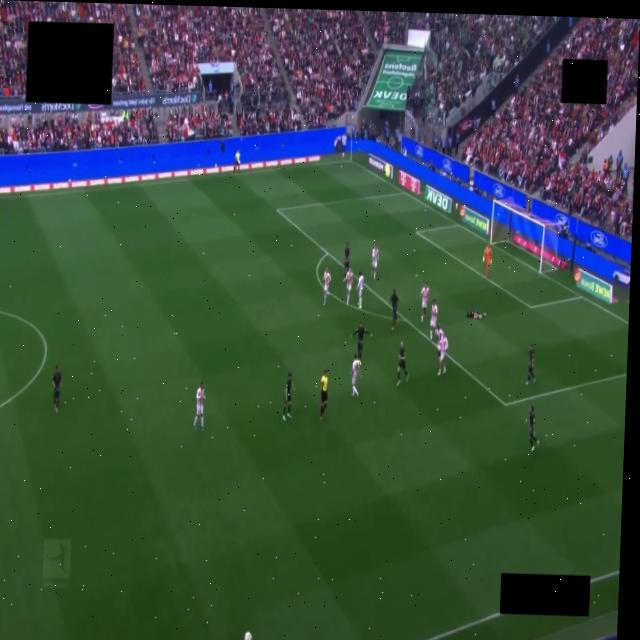ball: (244, 632, 251, 639)
player: (351, 323, 371, 359), (282, 372, 293, 420), (526, 407, 538, 451), (193, 382, 204, 430), (396, 341, 407, 386), (52, 365, 61, 413), (437, 333, 447, 375), (525, 344, 535, 384), (481, 244, 492, 279), (351, 355, 360, 397), (429, 300, 437, 340), (390, 290, 397, 331), (421, 283, 428, 322), (323, 267, 330, 305), (345, 268, 352, 306), (371, 245, 378, 280), (343, 243, 349, 281), (357, 272, 363, 308), (467, 310, 485, 320), (434, 325, 443, 345)
referee: (320, 370, 327, 420)
